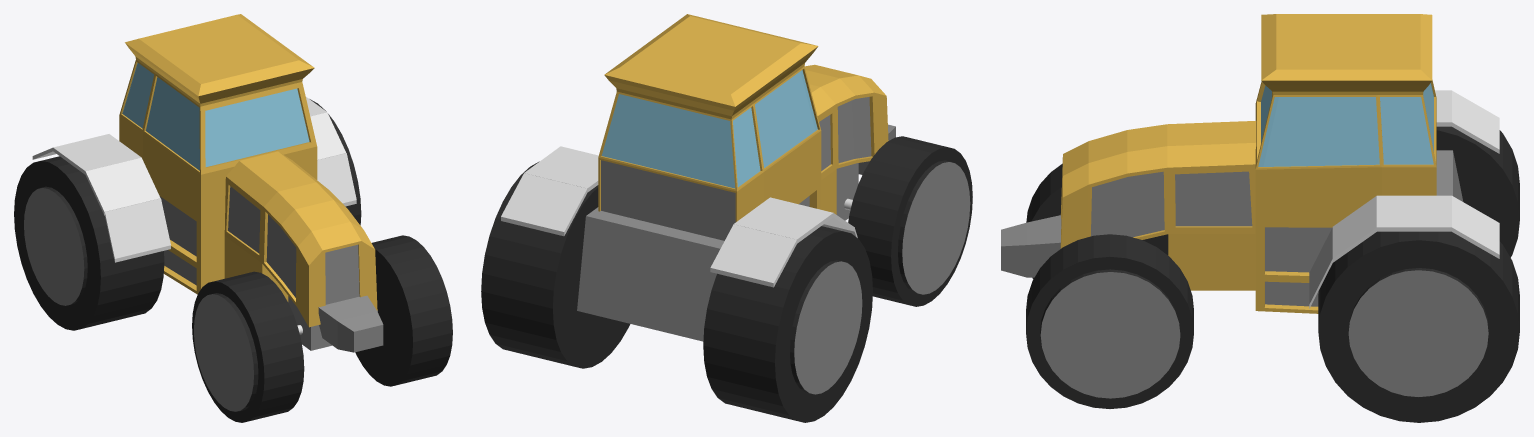
File: traktor.fbx
3 views of the same model, side by side, from view 1: azimuth 30°, elevation 25°; view 2: azimuth 150°, elevation 25°; view 3: azimuth 270°, elevation 25° (orthographic). The views are drawn at different scales.
Parts seen in each view (by area): view 1: Cube, Cube.003, Cube.002, Cube.001, Cube.004; view 2: Cube, Cube.003, Cube.002, Cube.004; view 3: Cube, Cube.004, Cube.001, Cube.003, Cube.002.
Boxes of the visible parts, x1=… form: Cube: x1=32, y1=14, x2=383, y2=352; Cube.003: x1=14, y1=156, x2=164, y2=330; Cube.002: x1=192, y1=271, x2=304, y2=422; Cube.001: x1=355, y1=235, x2=452, y2=386; Cube.004: x1=310, y1=99, x2=361, y2=225; Cube: x1=501, y1=14, x2=895, y2=341; Cube.003: x1=703, y1=226, x2=872, y2=422; Cube.002: x1=848, y1=136, x2=972, y2=306; Cube.004: x1=481, y1=161, x2=630, y2=368; Cube: x1=1001, y1=14, x2=1499, y2=313; Cube.004: x1=1318, y1=231, x2=1519, y2=422; Cube.001: x1=1026, y1=234, x2=1193, y2=408; Cube.003: x1=1436, y1=126, x2=1519, y2=257; Cube.002: x1=1026, y1=163, x2=1168, y2=279.
Bounding box in the file's own units: 173 × 167 × 250.
